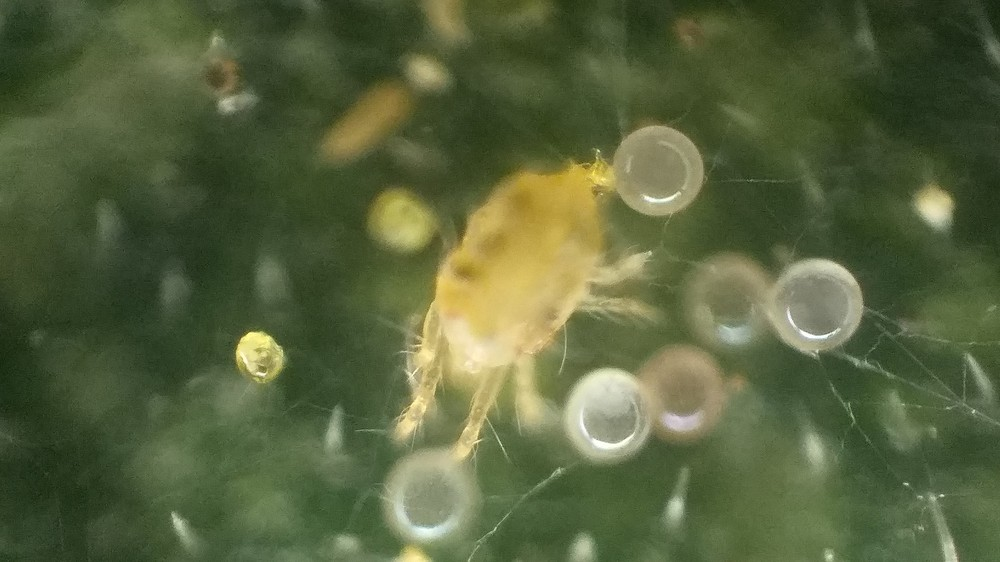Aracnido Rojo: (369, 141, 656, 473)
